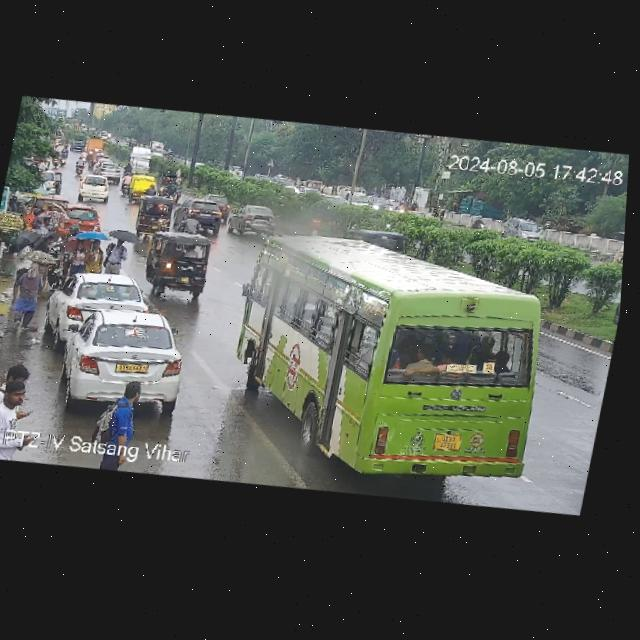bus: (213, 219, 571, 502), (470, 213, 489, 232), (394, 198, 406, 213)
car: (34, 297, 194, 414), (43, 265, 156, 342), (142, 229, 213, 303), (176, 199, 231, 237), (231, 204, 287, 241), (498, 213, 555, 247), (133, 196, 178, 237), (62, 200, 106, 233), (74, 173, 114, 204), (123, 174, 158, 200), (39, 193, 73, 215), (90, 161, 125, 182), (40, 168, 65, 197), (208, 193, 233, 220), (367, 192, 394, 214), (87, 152, 112, 166), (87, 146, 105, 159), (69, 139, 86, 152)
motorcycle: (175, 209, 203, 234), (73, 157, 89, 177), (471, 215, 487, 232), (50, 149, 63, 167), (168, 181, 179, 197), (148, 180, 159, 195), (124, 162, 134, 176), (59, 151, 69, 165), (160, 186, 171, 198), (410, 200, 419, 212), (80, 148, 87, 162), (62, 145, 70, 154), (63, 138, 70, 148)
person: (4, 252, 59, 340), (88, 383, 156, 448), (62, 230, 109, 283), (0, 378, 31, 442), (104, 232, 134, 277), (3, 360, 35, 386), (27, 205, 39, 221), (43, 215, 55, 230)
truck: (330, 183, 370, 209), (128, 145, 153, 177), (155, 171, 171, 190)
